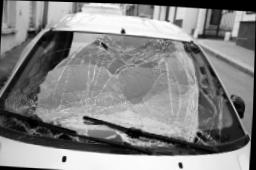Windshield: (0, 29, 236, 126)
